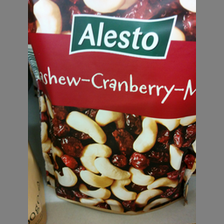nuts: (28, 1, 195, 216)
